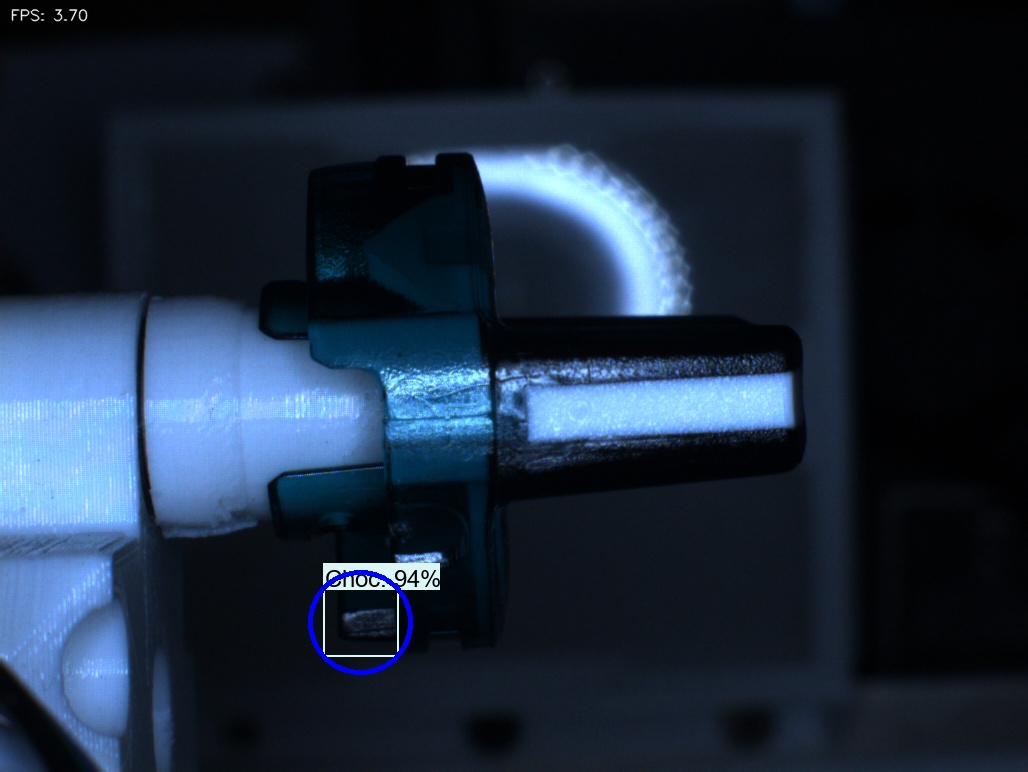DentOk: (331, 200, 413, 300)
